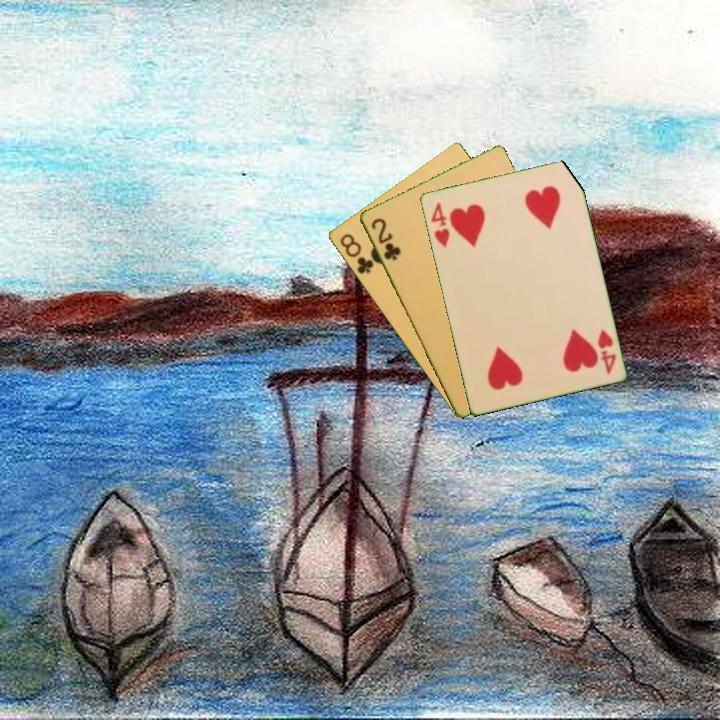2c: (367, 214, 403, 264)
4h: (427, 198, 452, 250), (594, 326, 619, 377)
8c: (336, 230, 376, 277)
